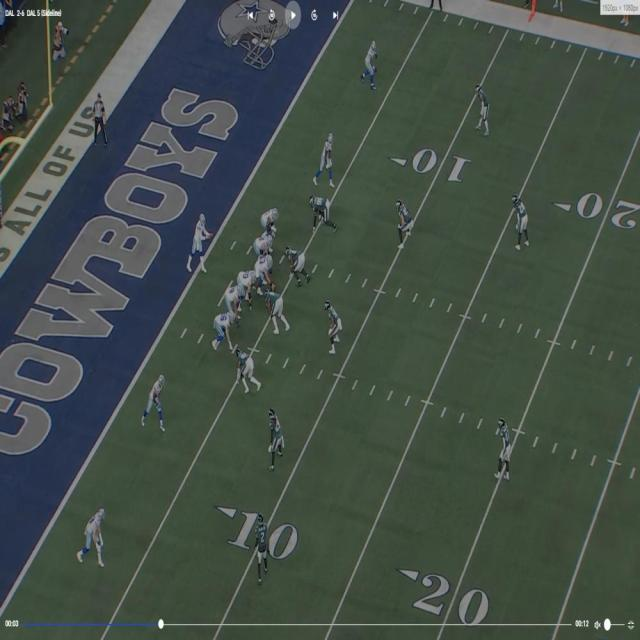center: (256, 256, 273, 295)
db: (254, 514, 270, 580), (268, 406, 282, 470), (511, 195, 526, 249), (498, 420, 510, 482), (477, 87, 488, 132)
lb: (397, 200, 413, 249), (326, 303, 340, 353)
qb: (189, 213, 207, 271)
skill: (81, 504, 105, 559), (144, 372, 164, 426), (213, 311, 236, 351), (322, 133, 337, 188), (366, 40, 379, 84)
